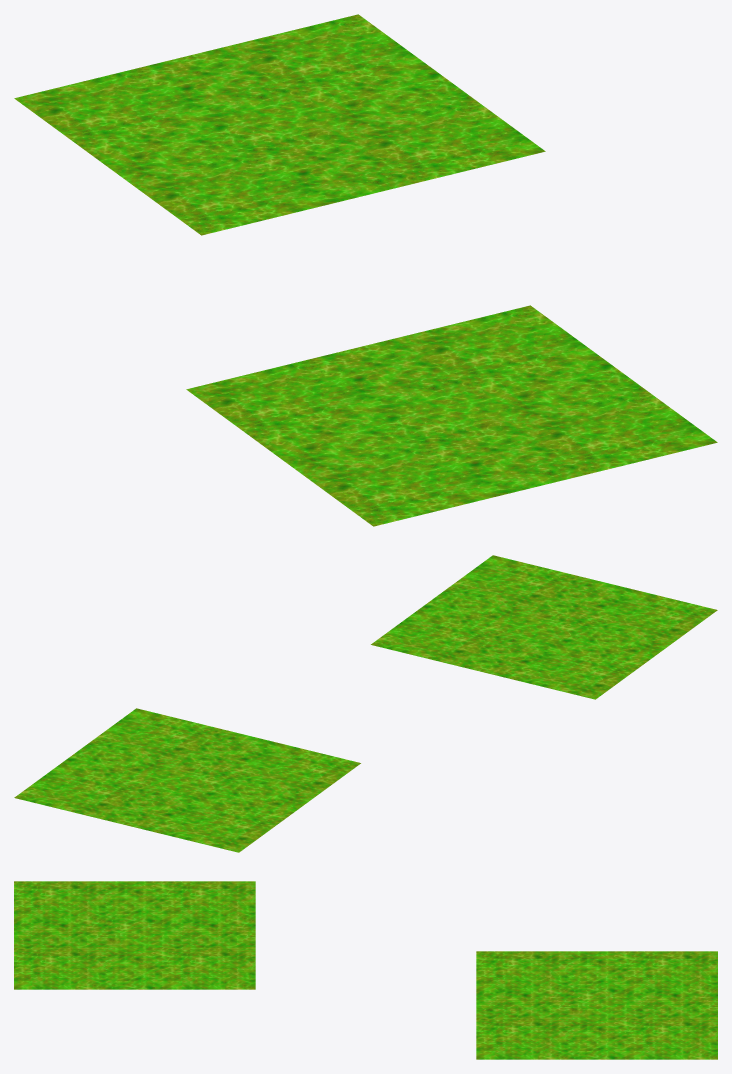
Rendered from water2.glb.
3 renders of one model, top to bottom at view 1: azimuth 30°, elevation 25°; view 2: azimuth 150°, elevation 25°; view 3: azimuth 270°, elevation 25°, orthographic. The views are drawn at different scales.
Visible parts, largest first — view 1: acid_lake.jpg__; view 2: acid_lake.jpg__; view 3: acid_lake.jpg__.
Boxes of the visible parts, x1,y1,x2,y2 form: acid_lake.jpg__: [14, 14, 717, 526]; acid_lake.jpg__: [14, 555, 717, 852]; acid_lake.jpg__: [14, 881, 717, 1059].
Bounding box in the file's own units: 157 × 4.86 × 279.
1 material, 1 textured.
